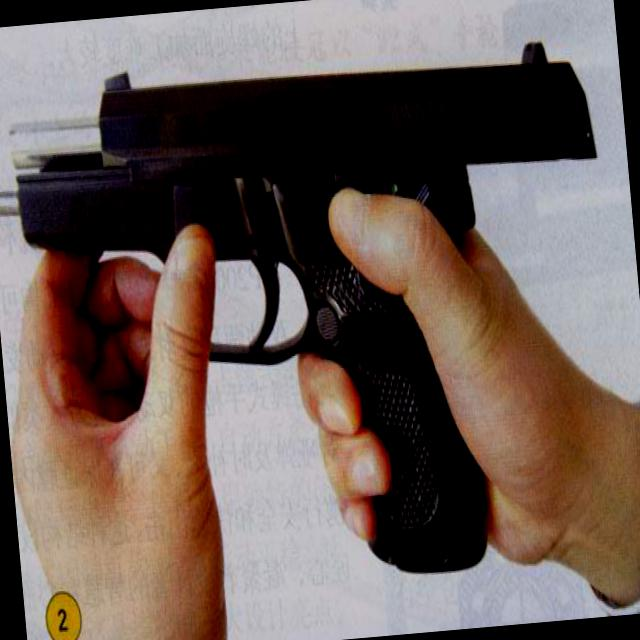handgun: (0, 30, 622, 625)
